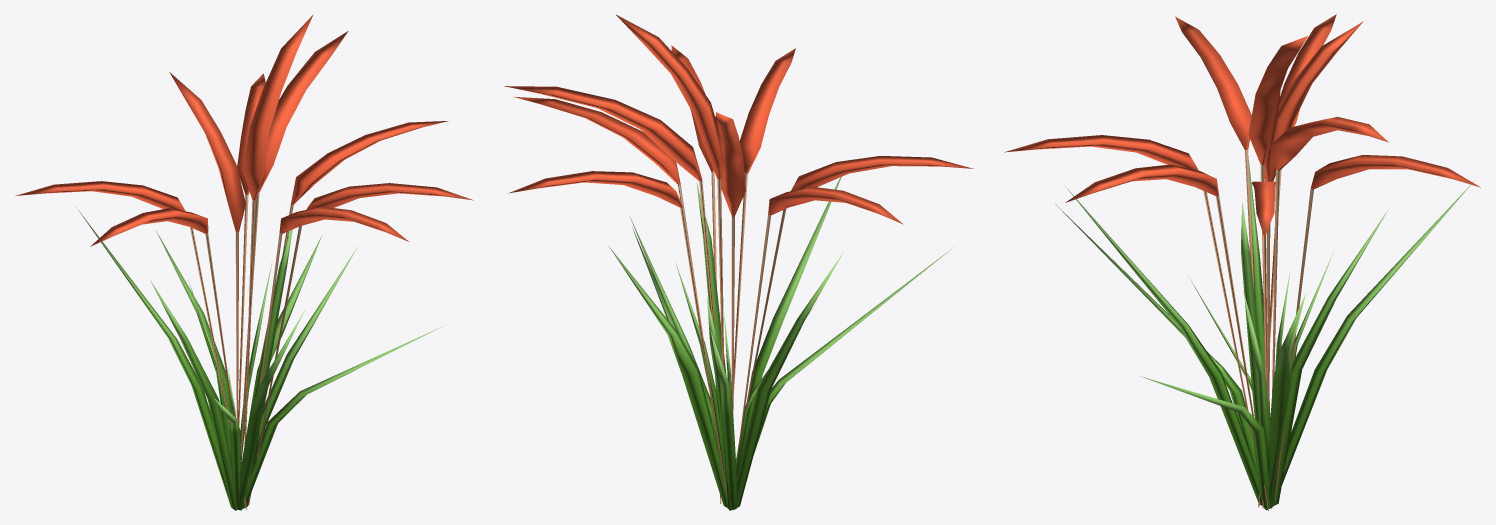
3 views of the same model, side by side, from view 1: azimuth 30°, elevation 25°; view 2: azimuth 150°, elevation 25°; view 3: azimuth 270°, elevation 25° (orthographic). The views are drawn at different scales.
Parts seen in each view (by area): view 1: fp27; view 2: fp27; view 3: fp27.
Part boxes in pixels (x1,y1,x2,y2): fp27: (15, 14, 473, 510); fp27: (504, 14, 973, 510); fp27: (1004, 14, 1480, 510).
Bounding box in the file's own units: 93.03 × 101 × 83.89.
